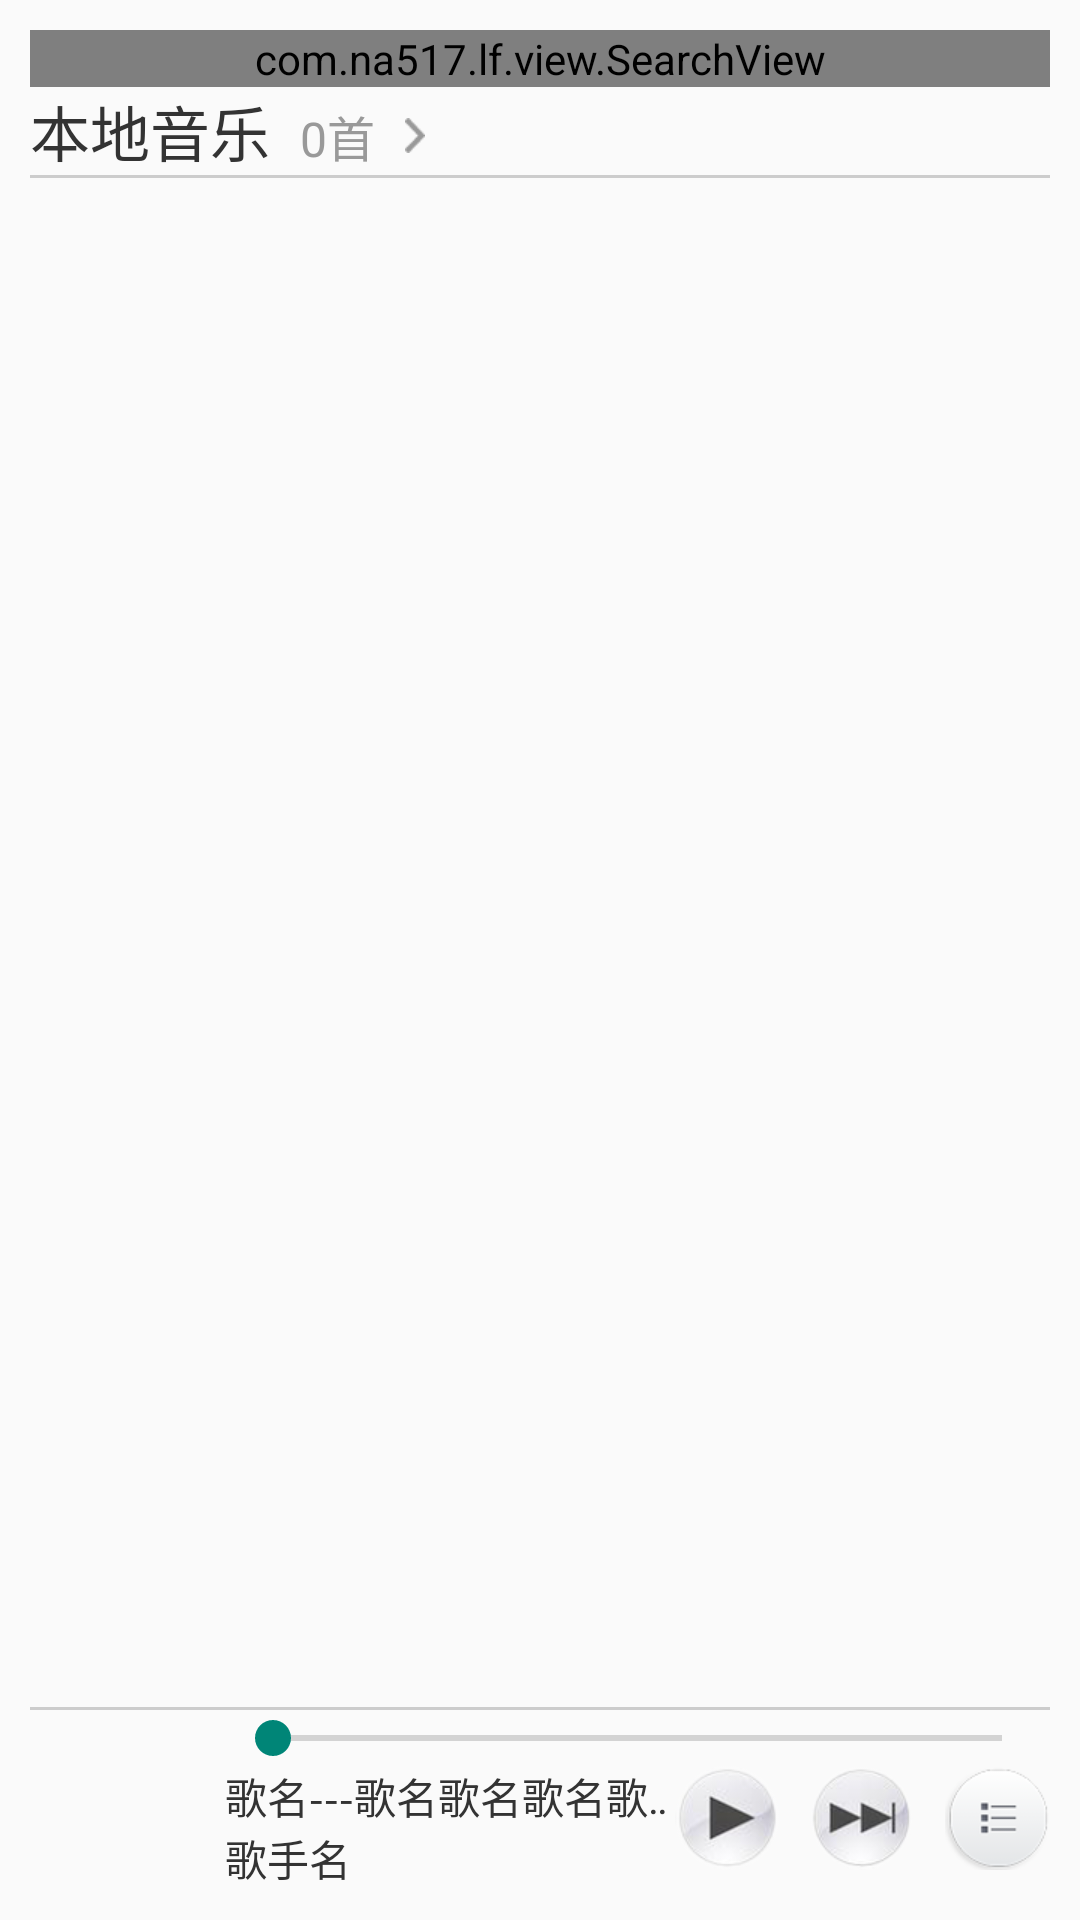

Where icons sit on this 1080×1920 app screen, as (x1, y1, x2, y2):
next: (814, 1770, 909, 1866)
play: (680, 1774, 775, 1859)
song list: (949, 1770, 1047, 1867)
